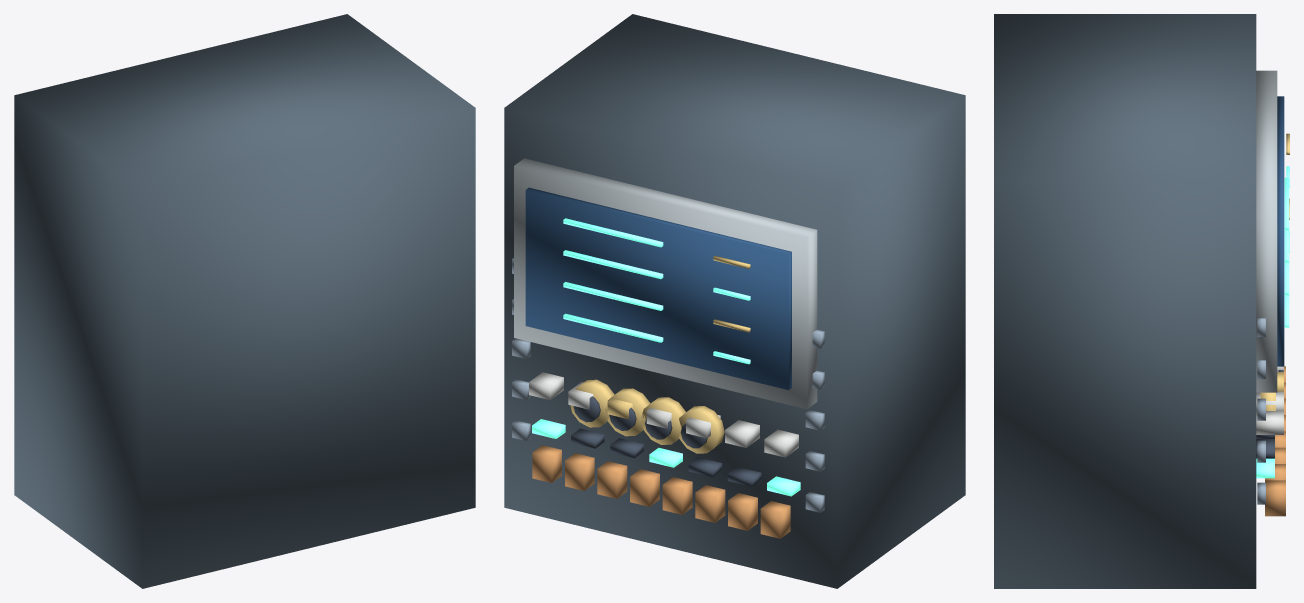
Rendered from L84_23_ReactionWheelTachometerArray_Fitted.fbx.
3 views of the same model, side by side, from view 1: azimuth 30°, elevation 25°; view 2: azimuth 150°, elevation 25°; view 3: azimuth 270°, elevation 25° (orthographic). The views are drawn at different scales.
Parts seen in each view (by area): view 1: L84_ReactionWheelTachometerArray_Static__tint1C2933; view 2: L84_ReactionWheelTachometerArray_Static__tint1C2933, L84_ReactionWheelTachometerArray_Static__tint0B214A, L84_ReactionWheelTachometerArray_Static__tint91A3AD, L84_ReactionWheelTachometerArray_Static__tintCC6629, L84_ReactionWheelTachometerArray_Static__tint2BF0A8, L84_ReactionWheelTachometerArray_Static__tintF2B547, L84_ReactionWheelTachometerArray_Static__tintCCD4CF, L84_ReactionWheelTachometerArray_Static__tint131B26, L84_ReactionWheelTachometerArray_Static__tint59738F; view 3: L84_ReactionWheelTachometerArray_Static__tint1C2933, L84_ReactionWheelTachometerArray_Static__tint91A3AD, L84_ReactionWheelTachometerArray_Static__tint0B214A, L84_ReactionWheelTachometerArray_Static__tintCC6629, L84_ReactionWheelTachometerArray_Static__tint2BF0A8, L84_ReactionWheelTachometerArray_Static__tint59738F, L84_ReactionWheelTachometerArray_Static__tintCCD4CF, L84_ReactionWheelTachometerArray_Static__tintF2B547.
Part boxes in pixels (bbox=[...]): L84_ReactionWheelTachometerArray_Static__tint1C2933: bbox=[14, 14, 475, 588]; L84_ReactionWheelTachometerArray_Static__tint1C2933: bbox=[504, 14, 965, 588]; L84_ReactionWheelTachometerArray_Static__tint0B214A: bbox=[525, 187, 791, 389]; L84_ReactionWheelTachometerArray_Static__tint91A3AD: bbox=[514, 158, 817, 409]; L84_ReactionWheelTachometerArray_Static__tintCC6629: bbox=[532, 445, 790, 538]; L84_ReactionWheelTachometerArray_Static__tint2BF0A8: bbox=[532, 218, 800, 496]; L84_ReactionWheelTachometerArray_Static__tintF2B547: bbox=[570, 256, 750, 453]; L84_ReactionWheelTachometerArray_Static__tintCCD4CF: bbox=[529, 372, 798, 457]; L84_ReactionWheelTachometerArray_Static__tint131B26: bbox=[571, 396, 761, 486]; L84_ReactionWheelTachometerArray_Static__tint59738F: bbox=[512, 258, 824, 512]; L84_ReactionWheelTachometerArray_Static__tint1C2933: bbox=[994, 14, 1256, 588]; L84_ReactionWheelTachometerArray_Static__tint91A3AD: bbox=[1256, 70, 1277, 392]; L84_ReactionWheelTachometerArray_Static__tint0B214A: bbox=[1277, 96, 1284, 366]; L84_ReactionWheelTachometerArray_Static__tintCC6629: bbox=[1265, 366, 1285, 516]; L84_ReactionWheelTachometerArray_Static__tint2BF0A8: bbox=[1256, 166, 1289, 478]; L84_ReactionWheelTachometerArray_Static__tint59738F: bbox=[1257, 318, 1265, 504]; L84_ReactionWheelTachometerArray_Static__tintCCD4CF: bbox=[1256, 366, 1283, 434]; L84_ReactionWheelTachometerArray_Static__tintF2B547: bbox=[1260, 133, 1289, 410].
Size of the model in its own units: 10.28 by 11.79 by 7.74.
